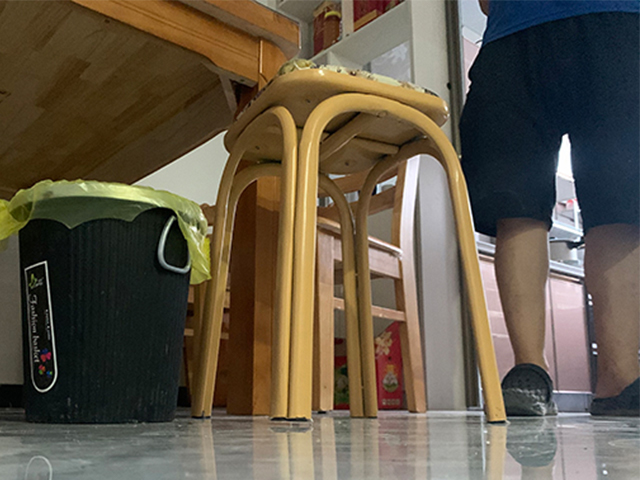cabinet: (474, 238, 596, 414)
stool: (189, 58, 508, 423)
table: (1, 1, 301, 418)
trashcan: (9, 179, 207, 424)
